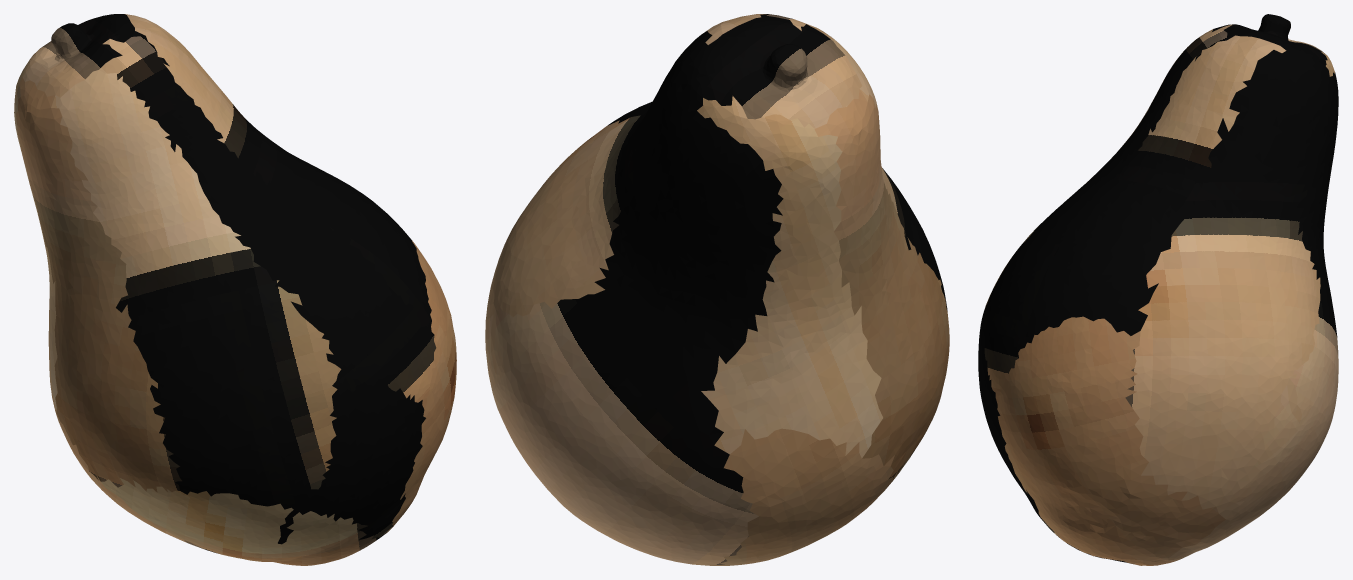
The picture shows the model from 3 angles, left to right: view 1: azimuth 30°, elevation 25°; view 2: azimuth 150°, elevation 25°; view 3: azimuth 270°, elevation 25°; orthographic projection. The views are drawn at different scales.
Bounding box in the file's own units: 0.0667 × 0.0946 × 0.0657.
